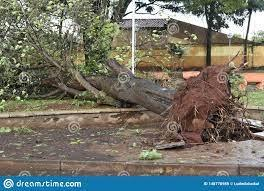Downstairs: (1, 1, 242, 143)
